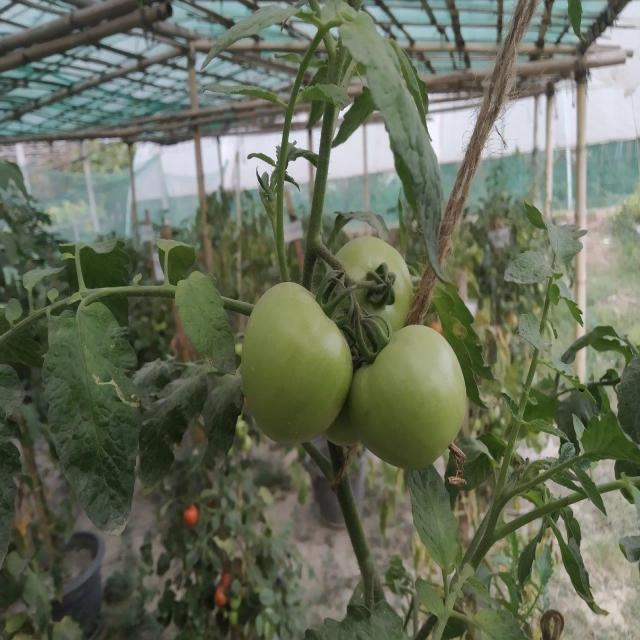Unripe: (242, 282, 352, 446), (354, 323, 467, 471)
